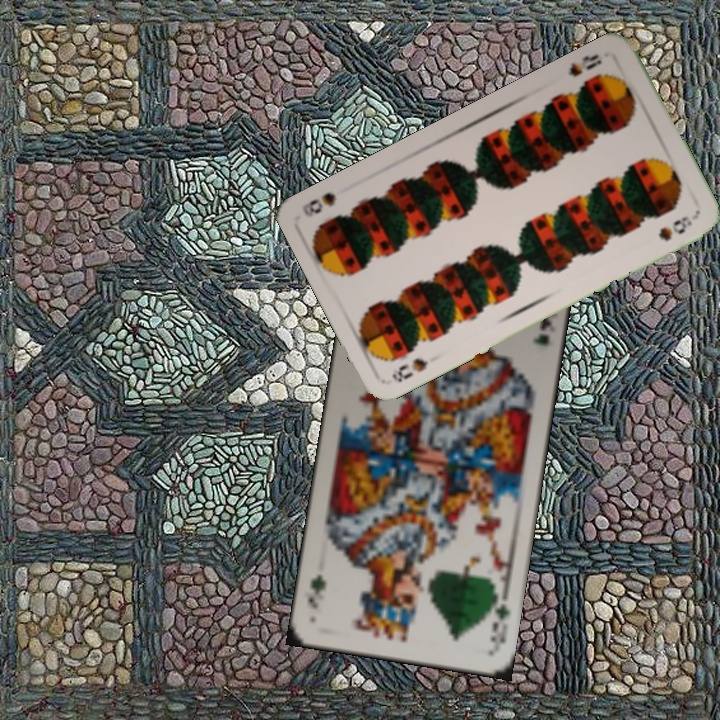GK: (485, 591, 513, 652)
S8: (388, 353, 430, 385), (564, 50, 604, 80)
